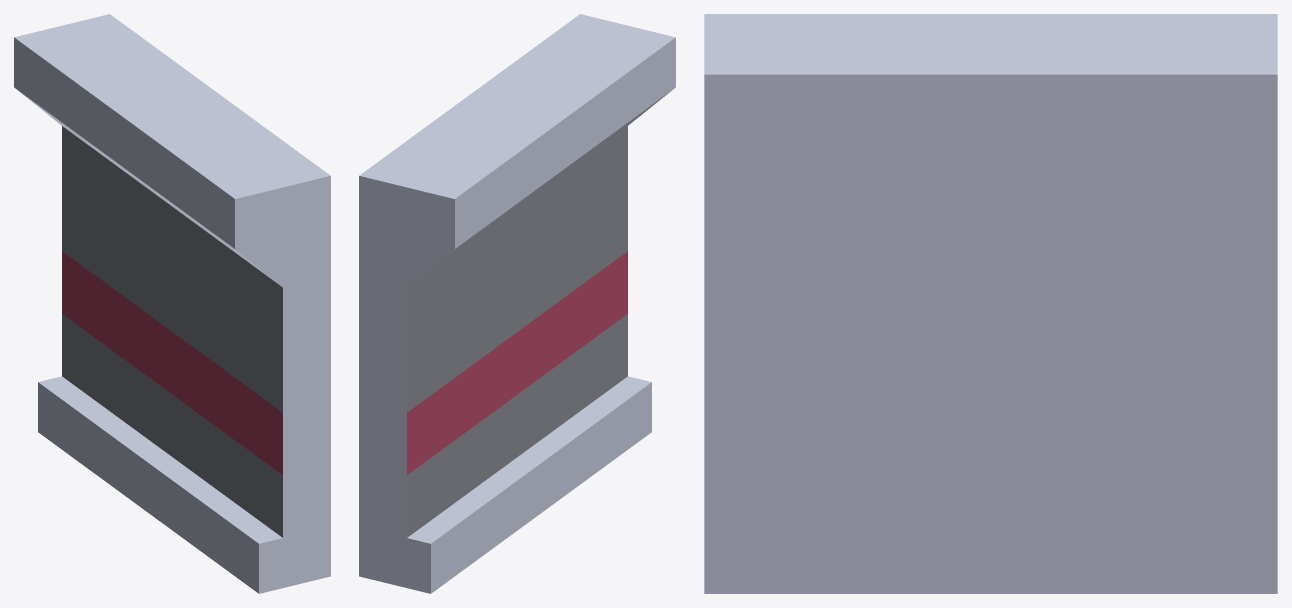
The picture shows the model from 3 angles, left to right: view 1: azimuth 30°, elevation 25°; view 2: azimuth 150°, elevation 25°; view 3: azimuth 270°, elevation 25°; orthographic projection. The views are drawn at different scales.
Parts seen in each view (by area): view 1: object_042; view 2: object_042; view 3: object_042.
Boxes of the visible parts, bbox=[...] form: object_042: bbox=[14, 14, 330, 593]; object_042: bbox=[359, 14, 675, 593]; object_042: bbox=[704, 14, 1277, 593].
Size of the model in its own units: 0.25 by 1 by 1.
